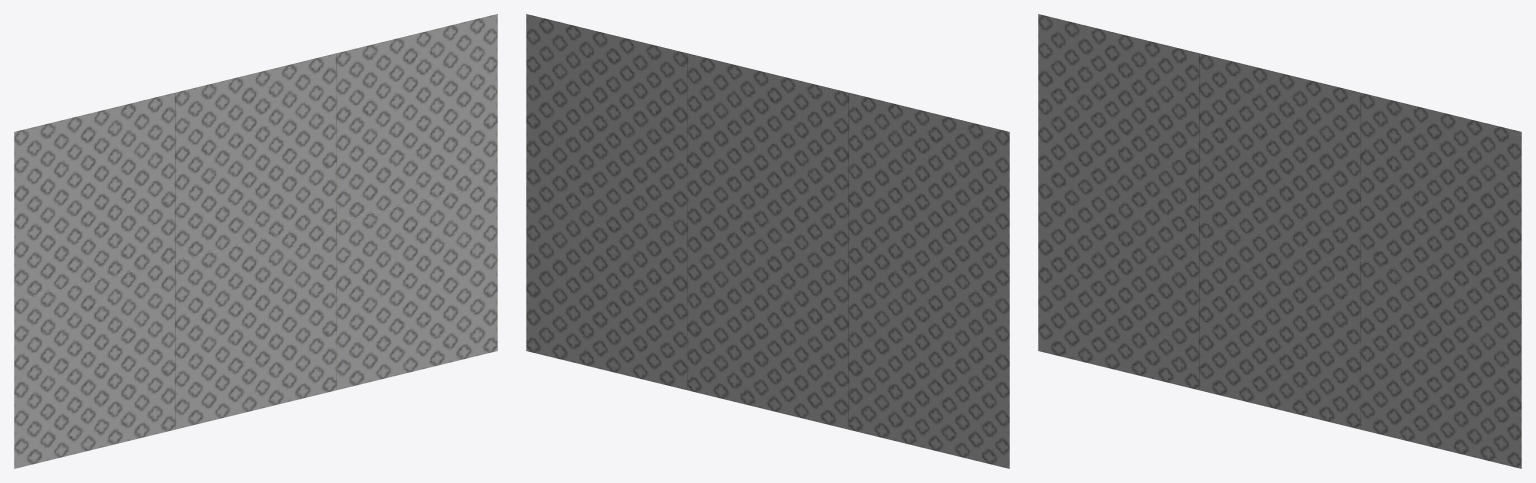
File: Kitchen Background1.fbx
3 views of the same model, side by side, from view 1: azimuth 30°, elevation 25°; view 2: azimuth 150°, elevation 25°; view 3: azimuth 330°, elevation 25° (orthographic).
Visible parts, largest first — view 1: Kitchen Background1; view 2: Kitchen Background1; view 3: Kitchen Background1.
Part boxes in pixels (<box>): Kitchen Background1: <box>14,14,497,468</box>; Kitchen Background1: <box>526,14,1009,468</box>; Kitchen Background1: <box>1038,14,1521,468</box>.
Size of the model in its own units: 6 by 4 by 8.74e-08.
Materials: 1 (1 with a texture image).
